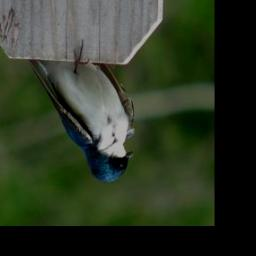Swallow: (27, 39, 137, 185)
